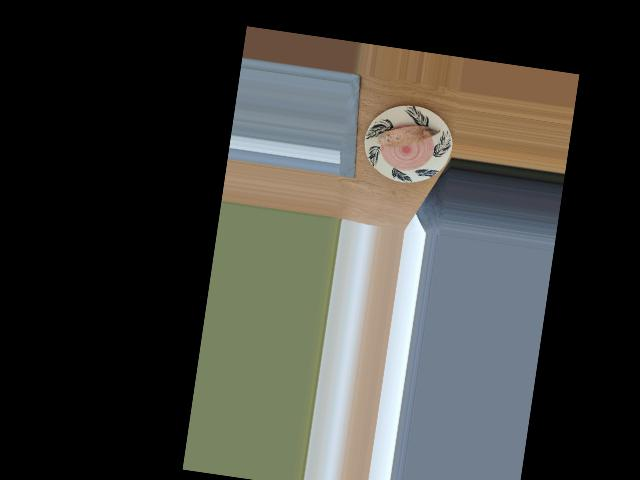sweet_potato: (378, 115, 435, 156)
